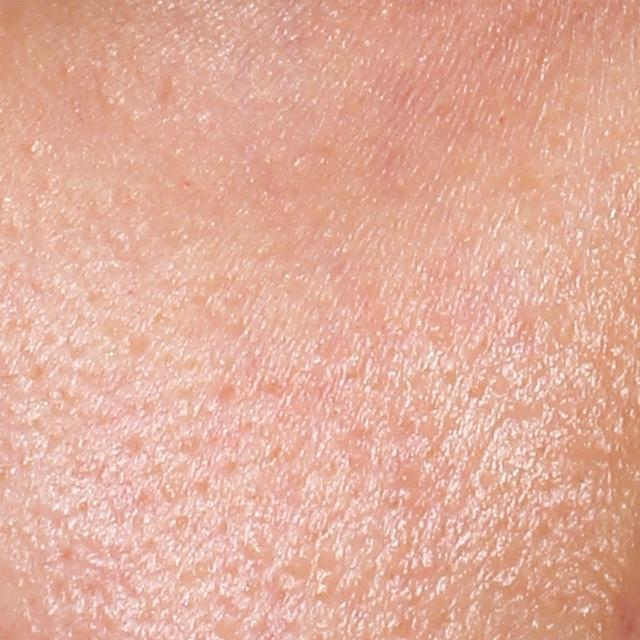comedo: (26, 141, 41, 156)
